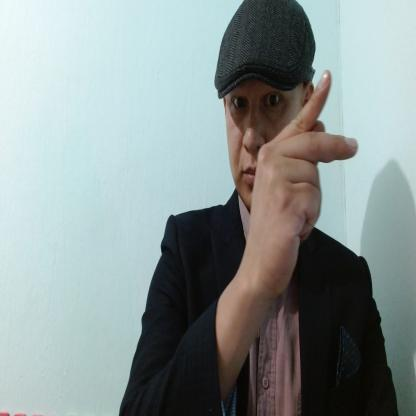P: (243, 68, 361, 295)
